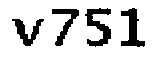1: (119, 6, 146, 49)
5: (84, 6, 115, 49)
7: (49, 6, 80, 49)
v: (6, 17, 46, 50)
